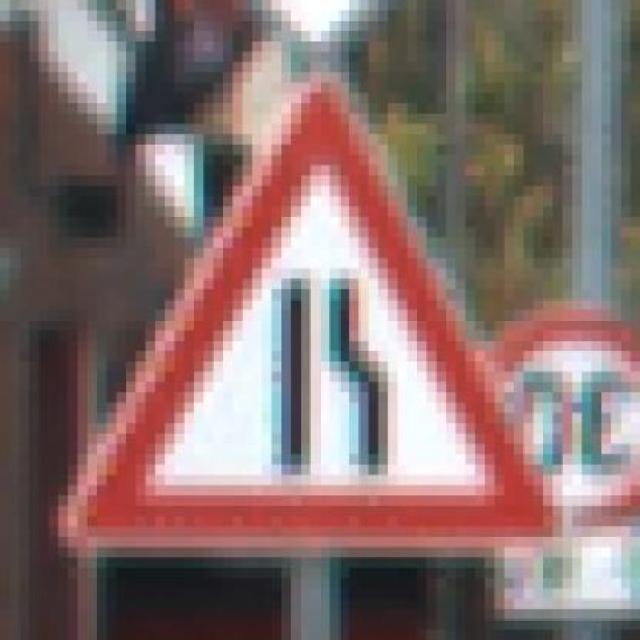-Road narrows on right: (49, 51, 582, 568)
